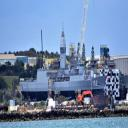Fragata: (19, 24, 109, 103)
